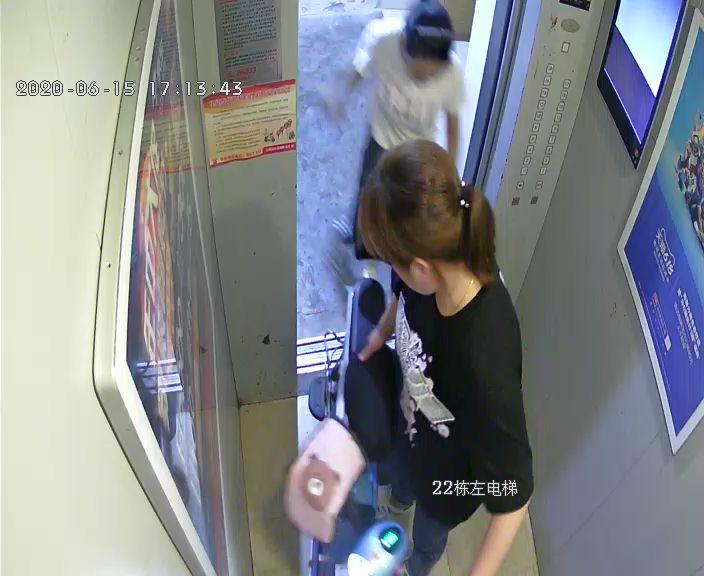Electric-bicycle: (307, 278, 424, 566)
